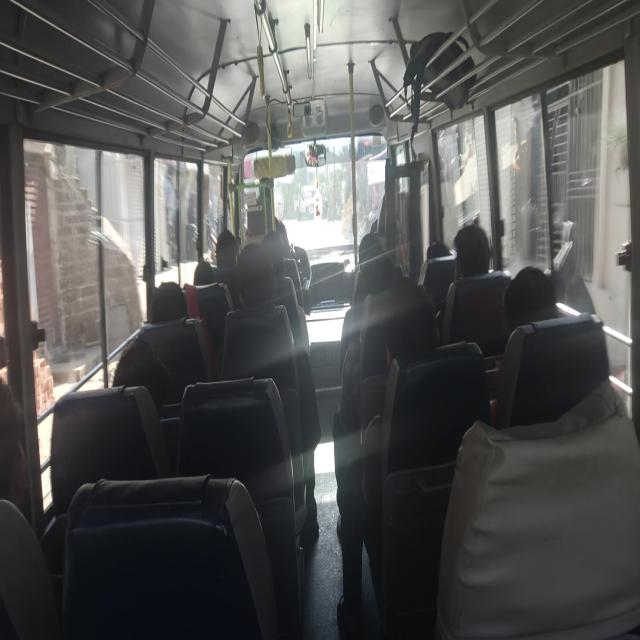person: (0, 382, 46, 546), (103, 344, 157, 434), (385, 292, 430, 368), (498, 266, 540, 334), (452, 220, 496, 282), (239, 244, 275, 318), (141, 286, 185, 335), (363, 259, 411, 299), (262, 229, 295, 272), (218, 225, 242, 267), (351, 230, 378, 266), (191, 264, 219, 298), (429, 244, 452, 273)
